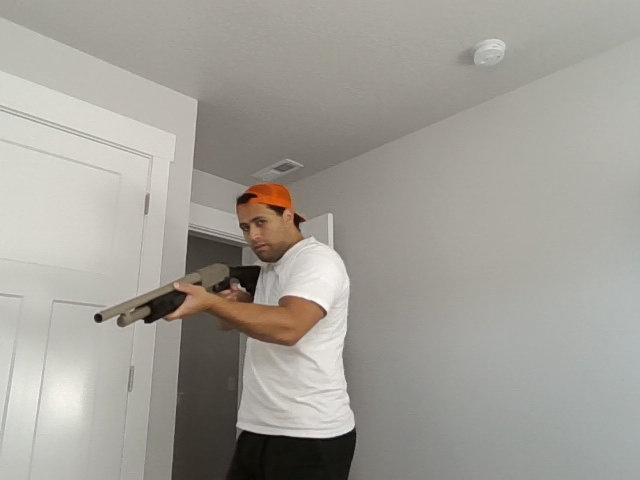shotgun: (94, 262, 261, 331)
